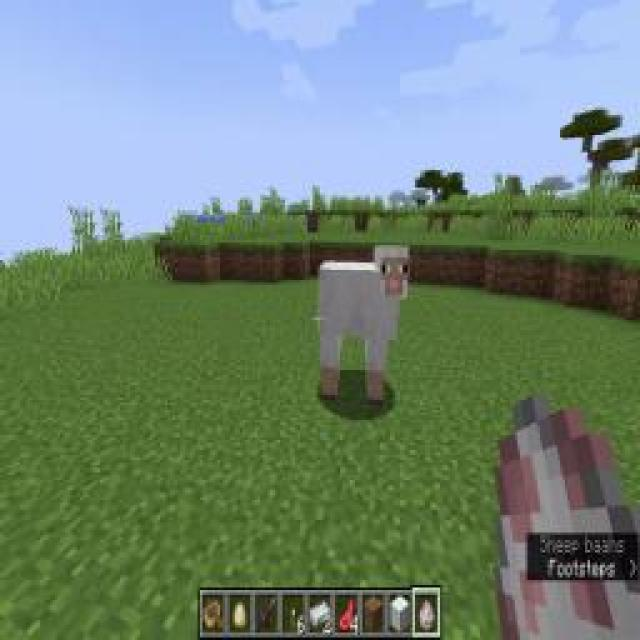Sheep: (316, 240, 412, 408)
